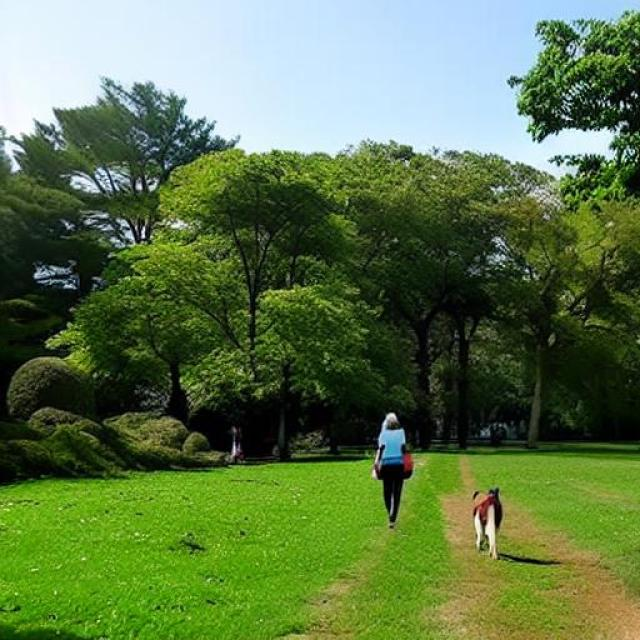Unleashed_Dog: (382, 468, 504, 561)
